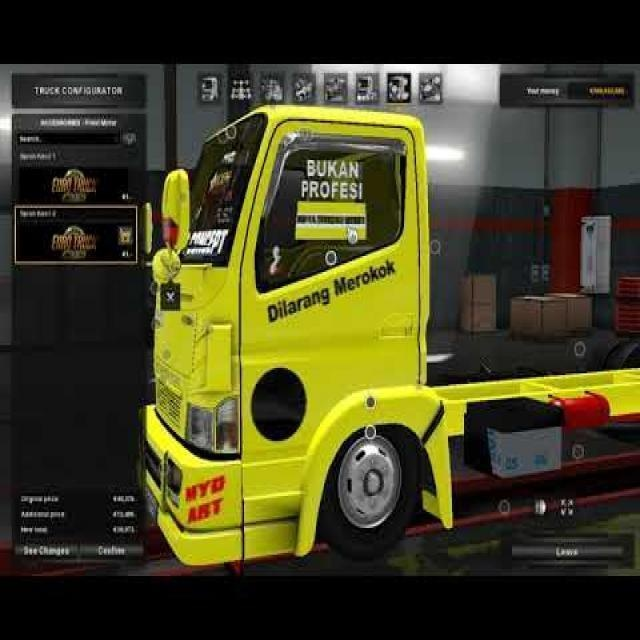Truck: (140, 109, 639, 566)
